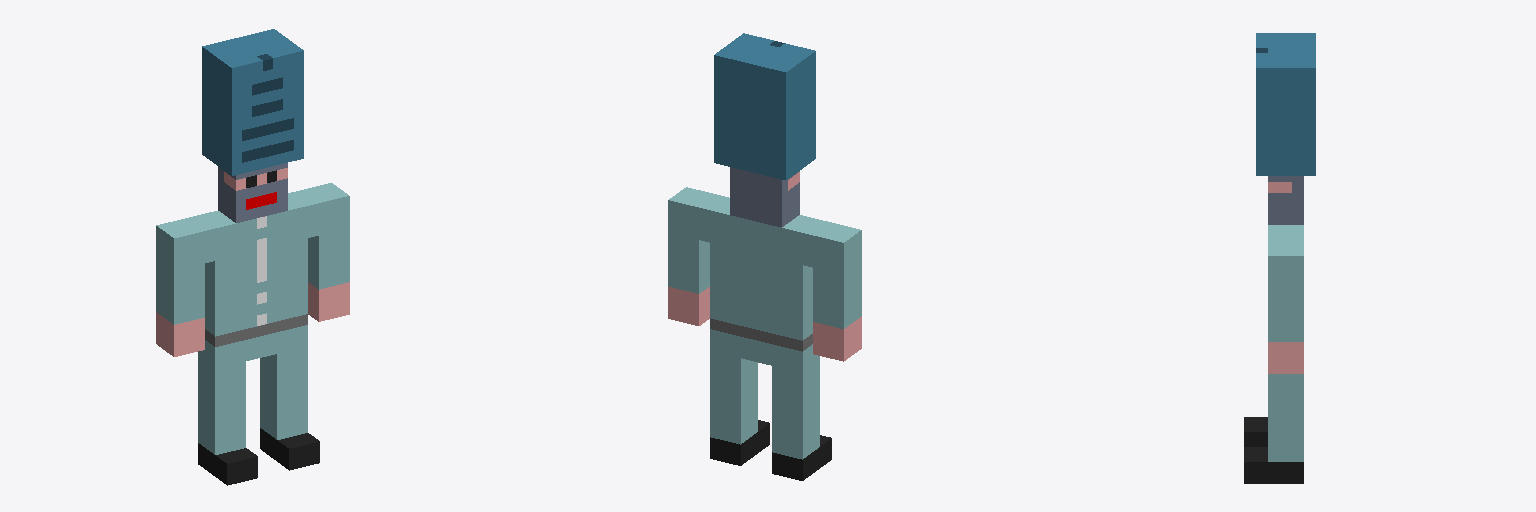
3 views of the same model, side by side, from view 1: azimuth 30°, elevation 25°; view 2: azimuth 150°, elevation 25°; view 3: azimuth 270°, elevation 25° (orthographic).
Visible parts, largest first — view 1: char_doctor; view 2: char_doctor; view 3: char_doctor.
Part boxes in pixels (x1,y1,x2,y2): char_doctor: (156,29,349,485); char_doctor: (668,33,861,480); char_doctor: (1244,33,1315,483).
Bounding box in the file's own units: 17 × 38 × 6.
1 materials, 1 textured.